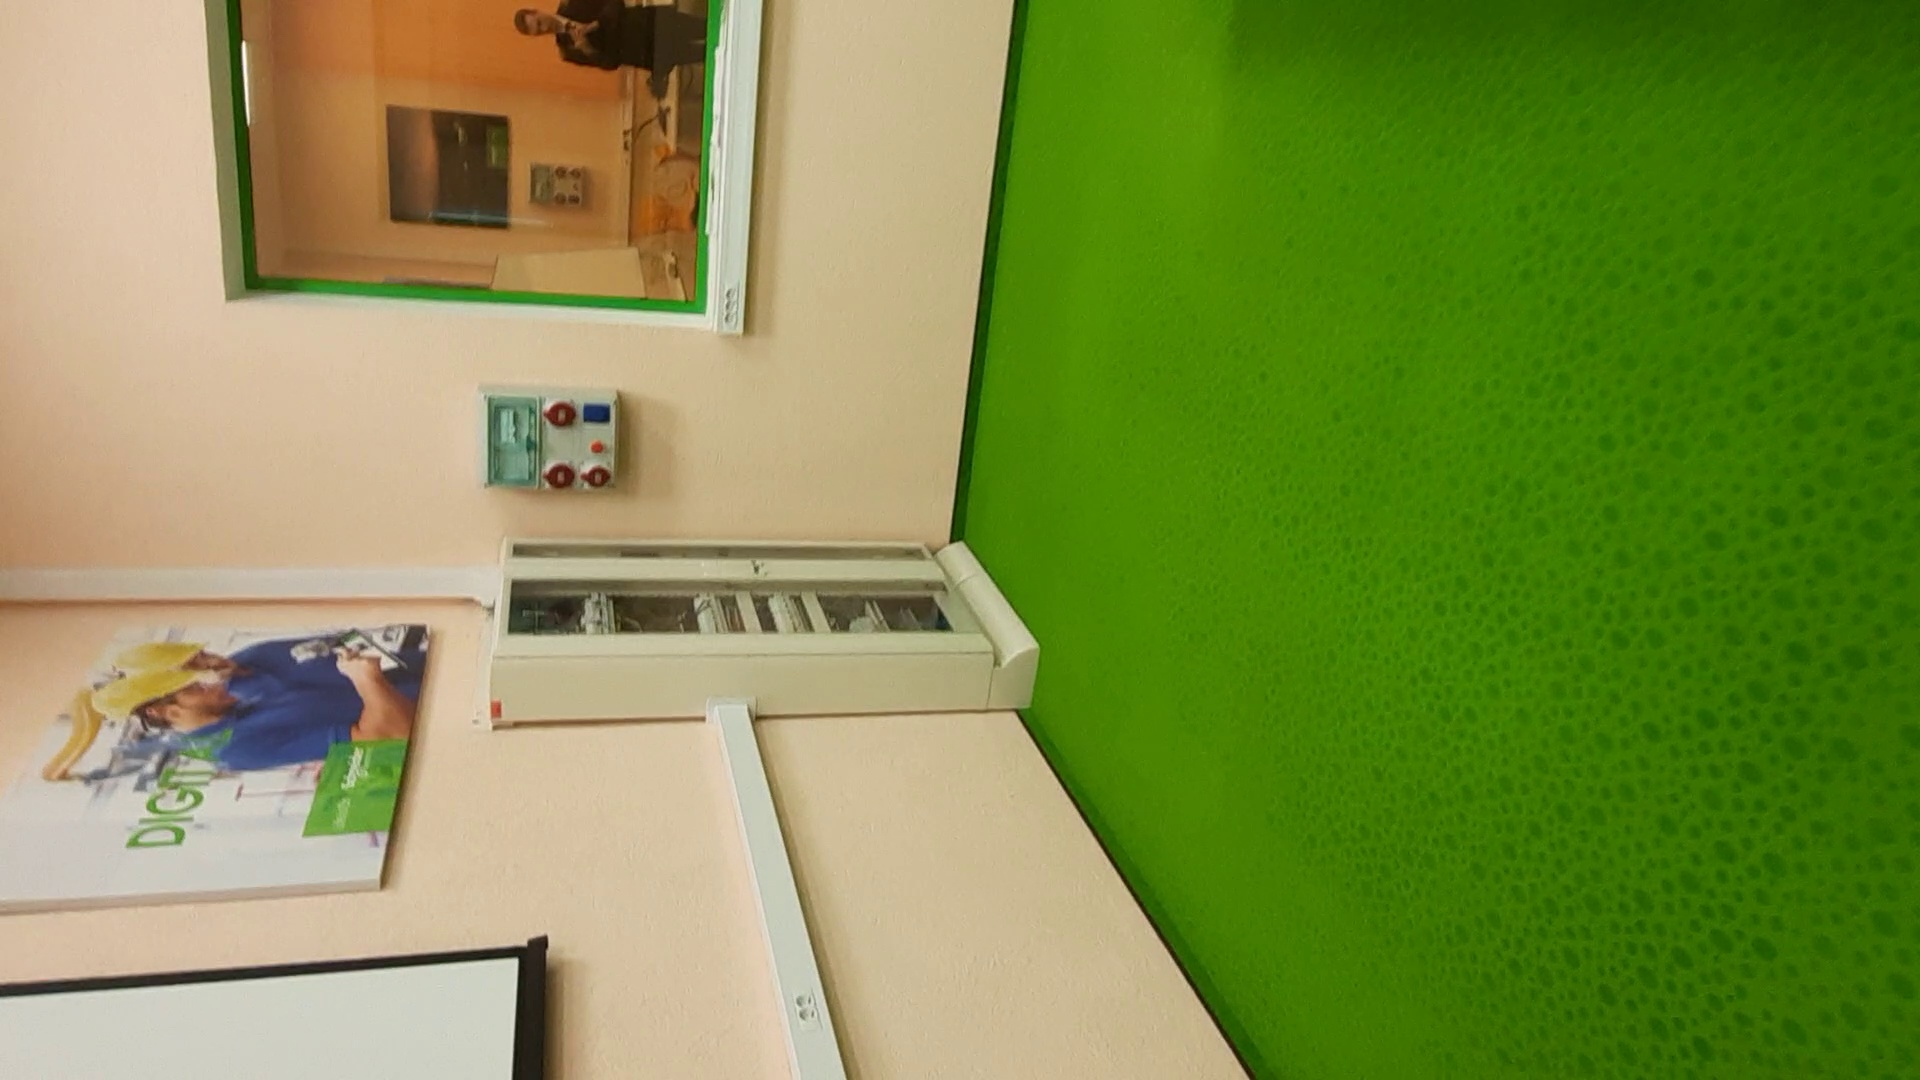stand1: (487, 538, 1040, 729)
